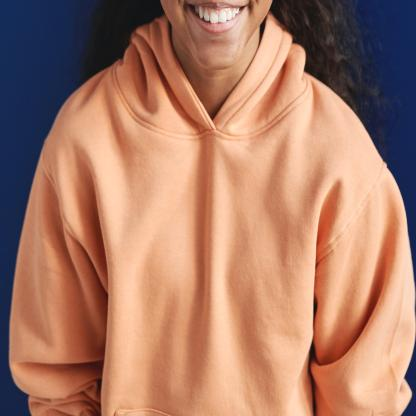dress: (9, 2, 416, 415)
